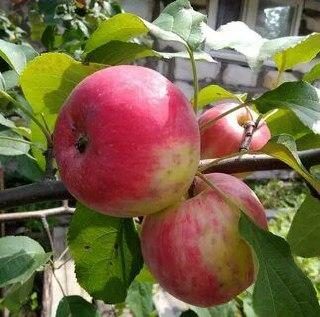Apple: (54, 65, 200, 217), (140, 174, 270, 308)
